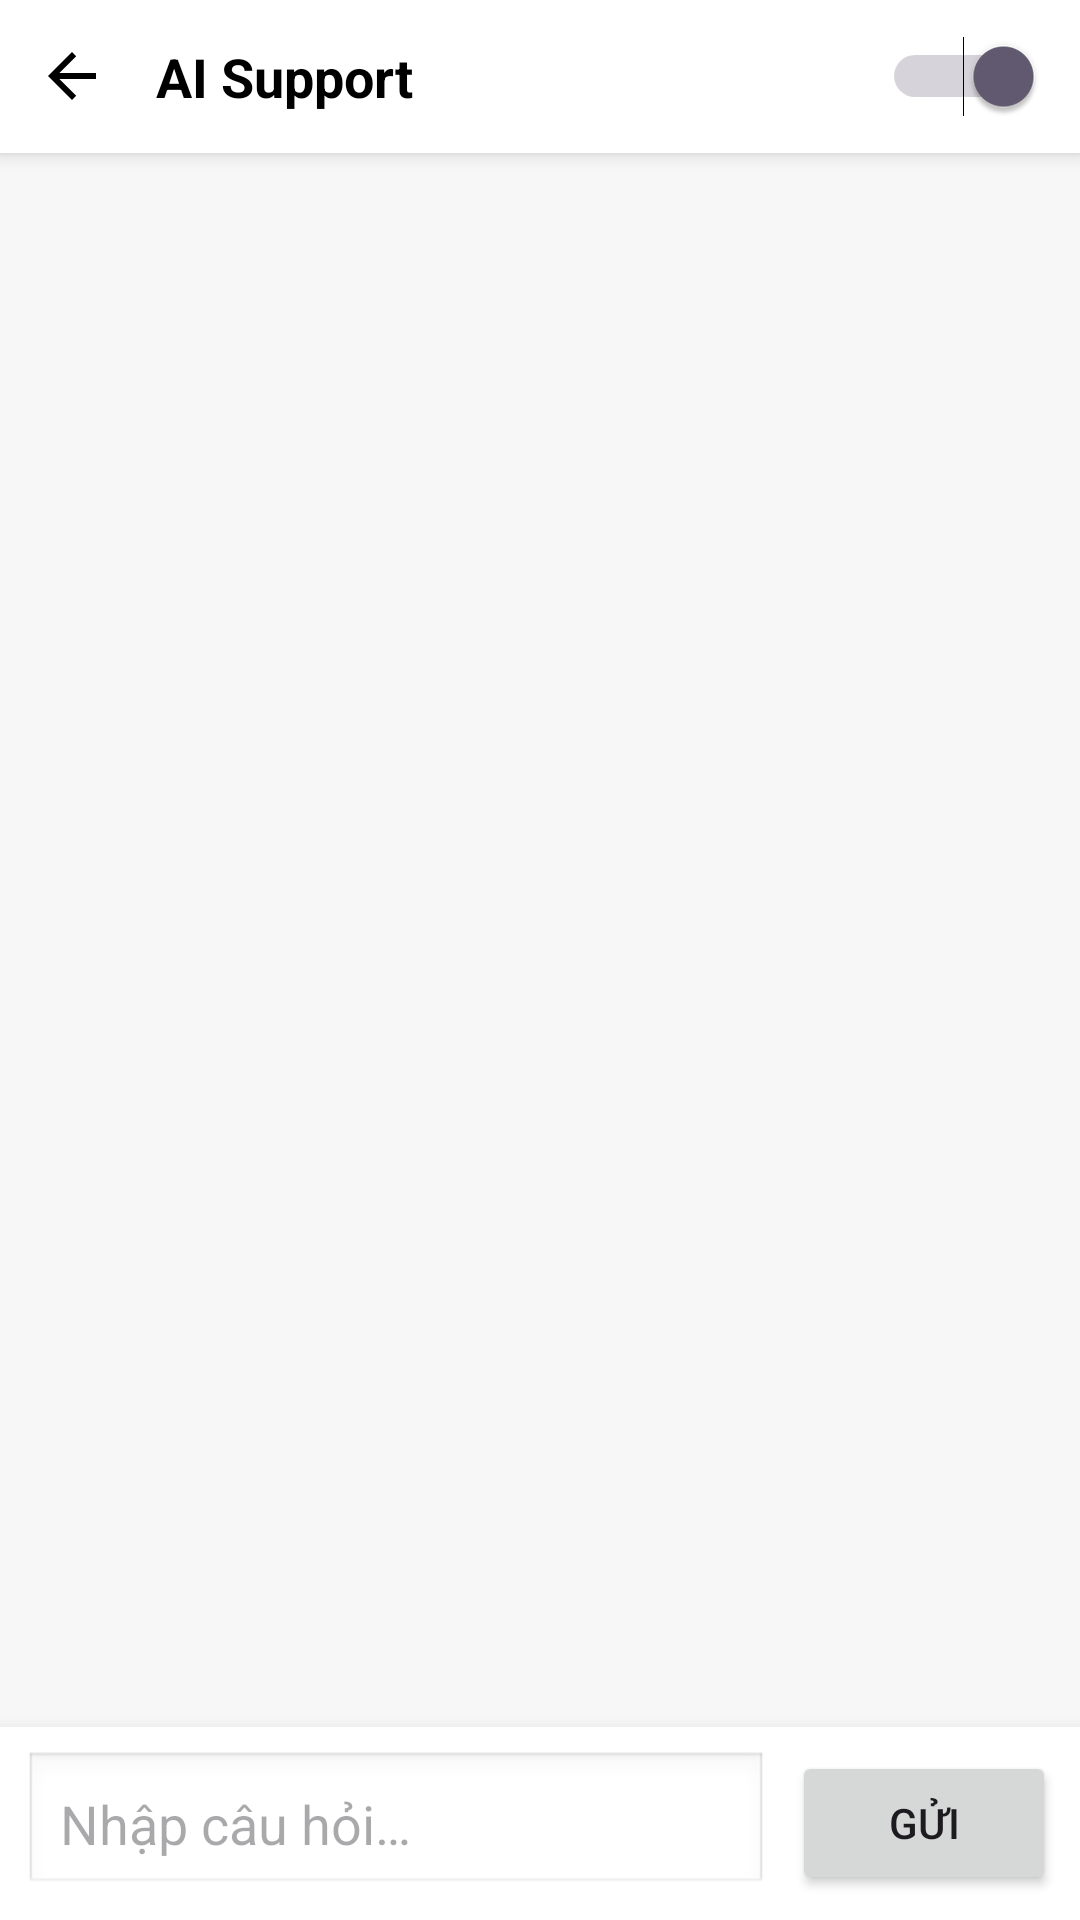

Where icons sit on this 1080*1920 app screen, as Rect(x1, y1, x2, y2):
Quay lại: Rect(48, 52, 96, 100)
